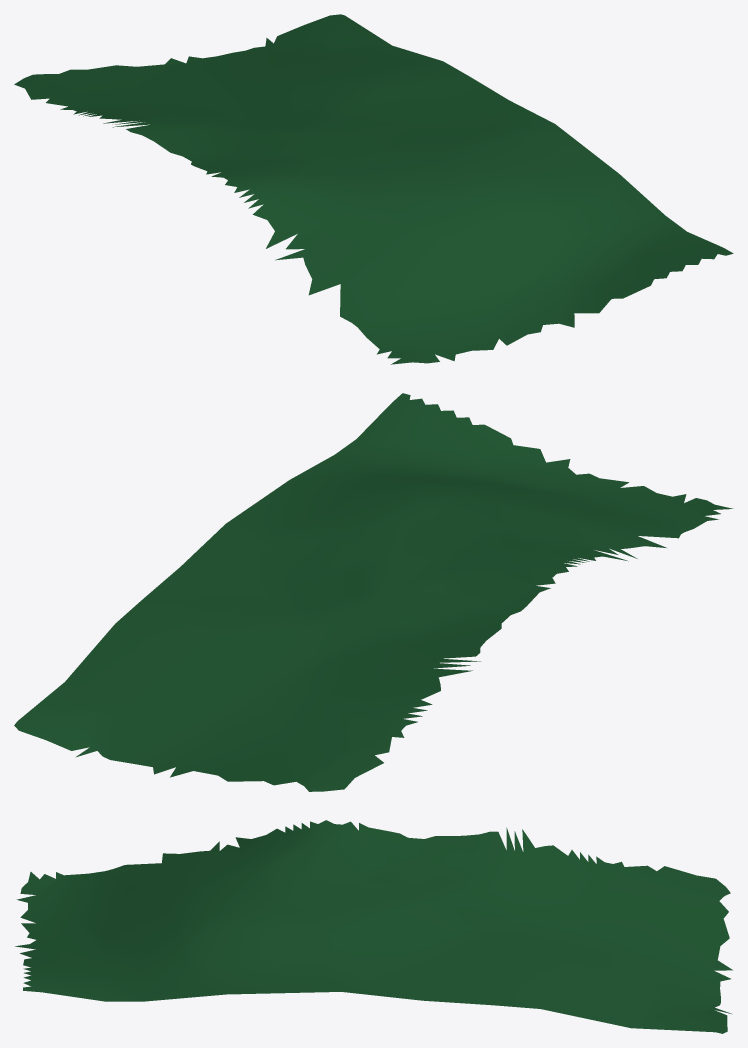
File: payo_land_xm5_ym2_lod2.glb
The picture shows the model from 3 angles, top to bottom: view 1: azimuth 30°, elevation 25°; view 2: azimuth 150°, elevation 25°; view 3: azimuth 270°, elevation 25°; orthographic projection. The views are drawn at different scales.
Visible parts, largest first — view 1: payo_land_xm5_ym2; view 2: payo_land_xm5_ym2; view 3: payo_land_xm5_ym2.
Boxes of the visible parts, x1,y1,x2,y2 form: payo_land_xm5_ym2: (14,14,733,364); payo_land_xm5_ym2: (14,393,733,791); payo_land_xm5_ym2: (15,820,732,1033).
Size of the model in its own units: 132 by 31.34 by 264.
